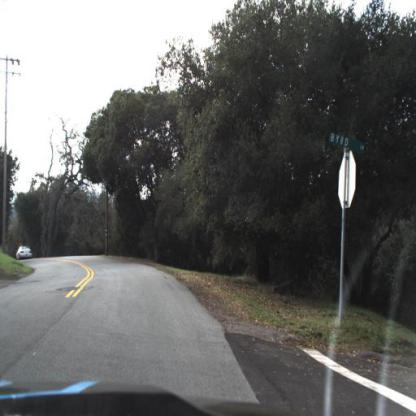car: (15, 243, 38, 269)
